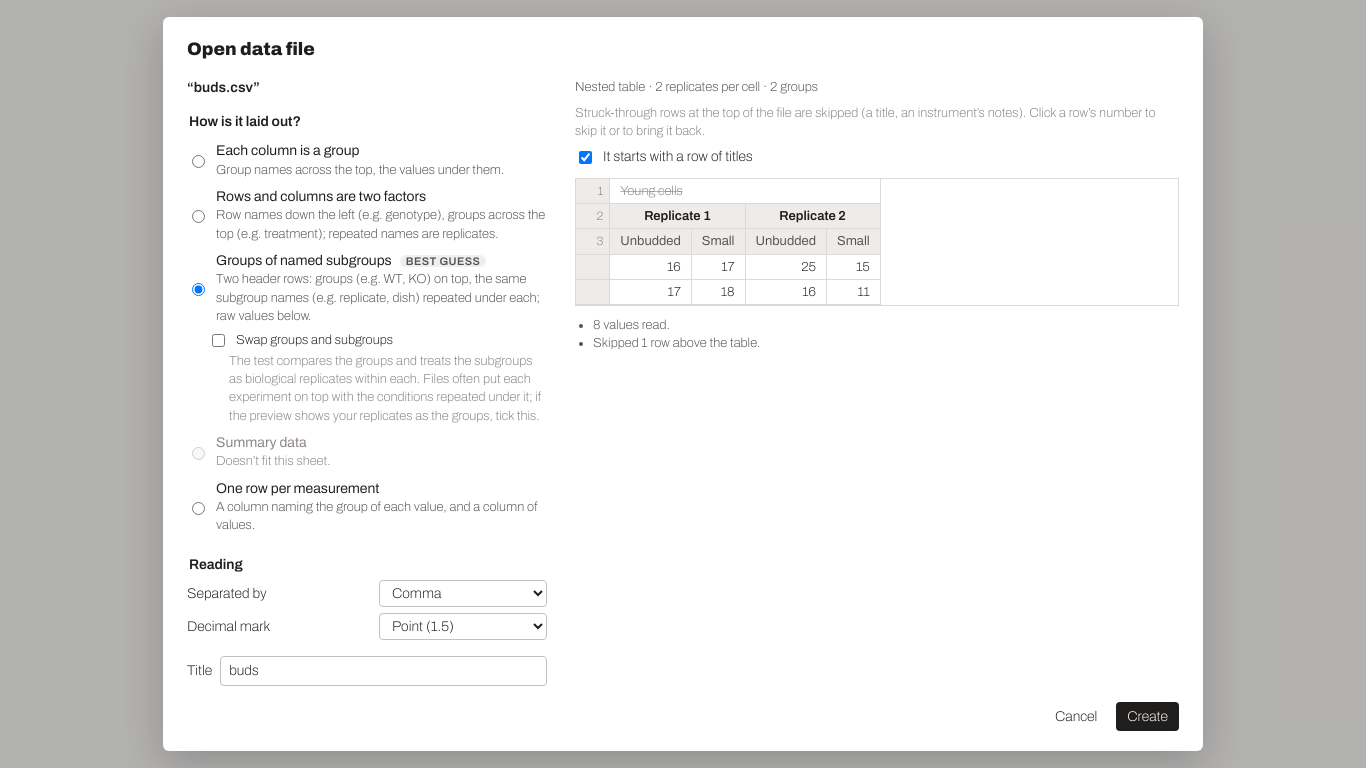
it: the Open data file dialog › shows the rows skipped over the preview, and moves the start from its row numbers
Check: the text "best guess" is shown, box [400, 255, 486, 267]
Check: the text "Young cells" is shown, box [620, 184, 683, 198]
Click the button named "Skip row 2".
click(593, 216)  # box [576, 205, 609, 228]
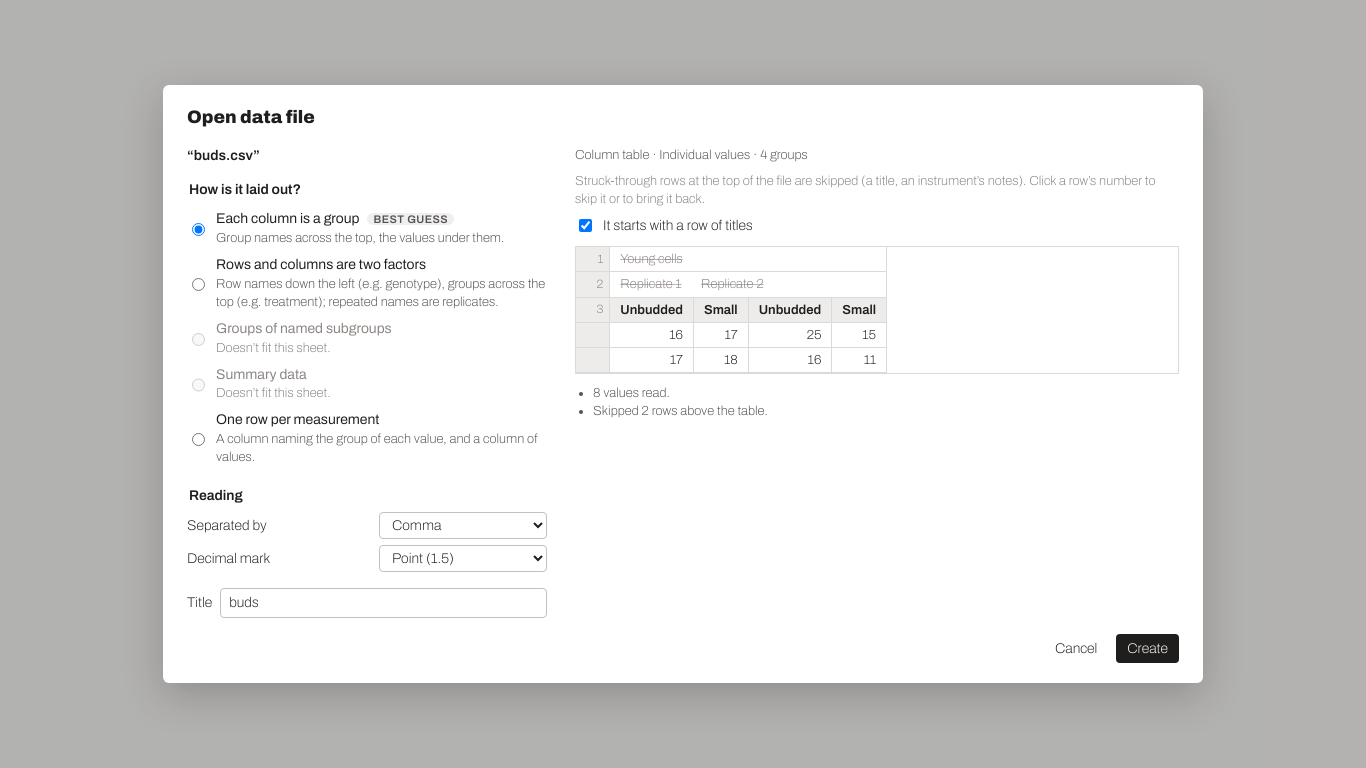
Check: the text "Replicate 1" is shown, box [620, 277, 682, 291]
Check: the button named "Start at row 2" is shown, box [576, 273, 609, 296]
Check: the radio button labelled "Groups of named subgroups Doesn’t fit this sheet." is not checked, box [192, 322, 205, 357]
Click the button named "Start at row 1".
click(593, 259)  # box [576, 248, 609, 271]
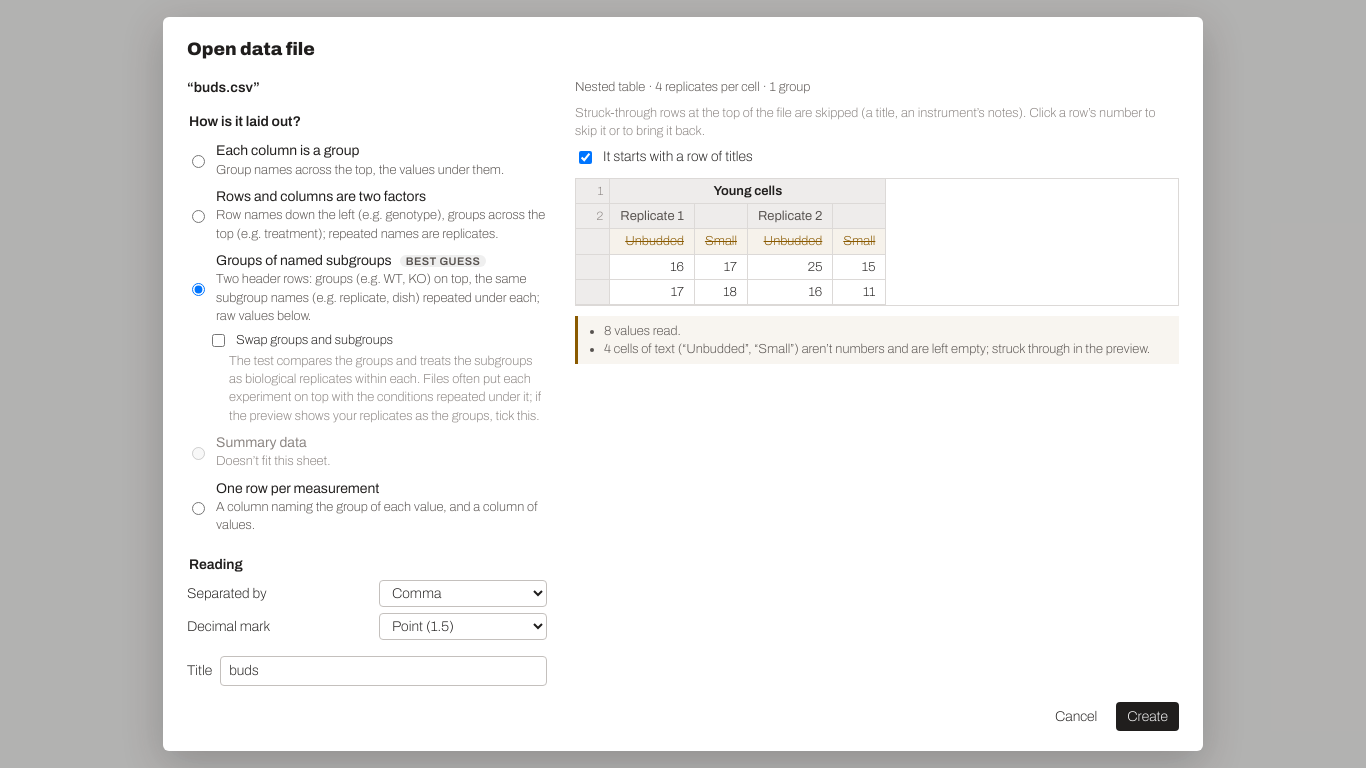
Check: the button named "Skip row 1" is shown, box [576, 180, 609, 203]
